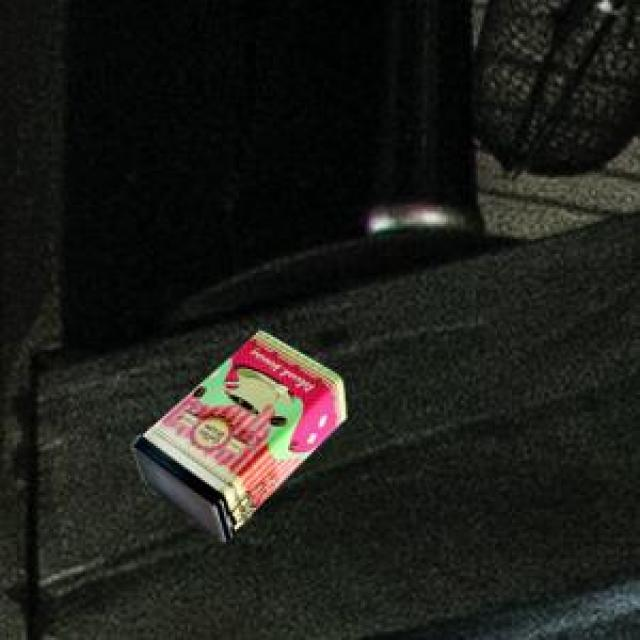logam: (129, 327, 342, 539)
